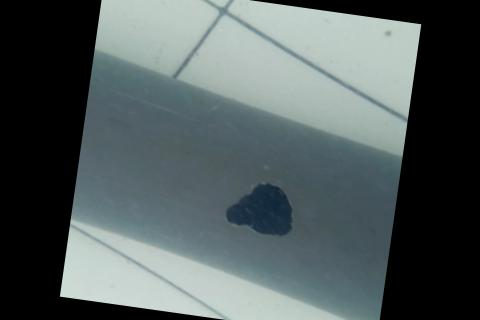kebocoran: (220, 173, 301, 239)
